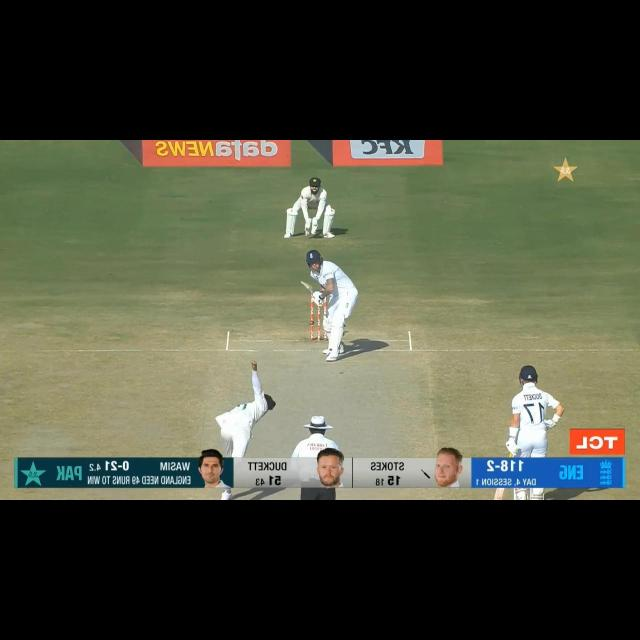bat: (298, 281, 318, 298), (492, 486, 505, 502)
toe: (296, 280, 312, 288), (491, 494, 506, 499)
